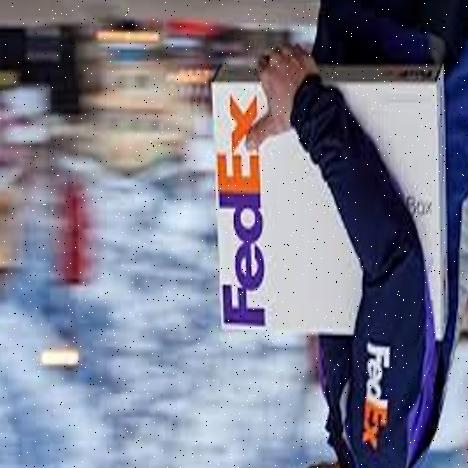FedEx: (207, 63, 453, 350)
